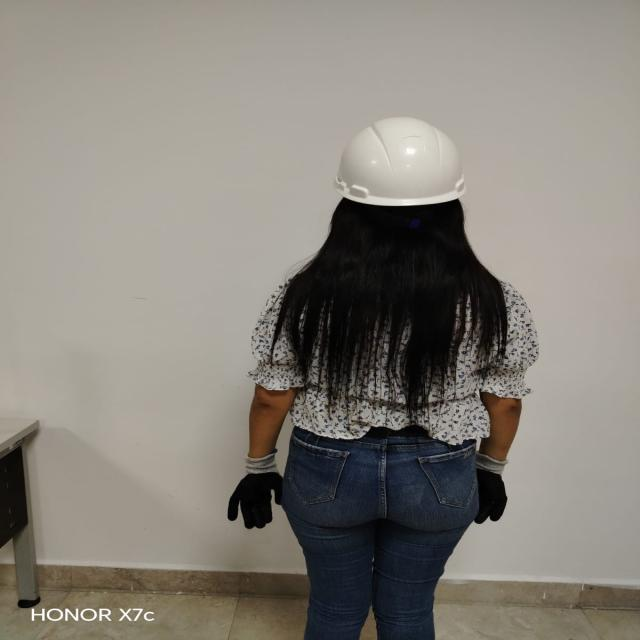gloves: (224, 449, 285, 532), (474, 452, 507, 523)
helmet: (332, 116, 469, 208)
